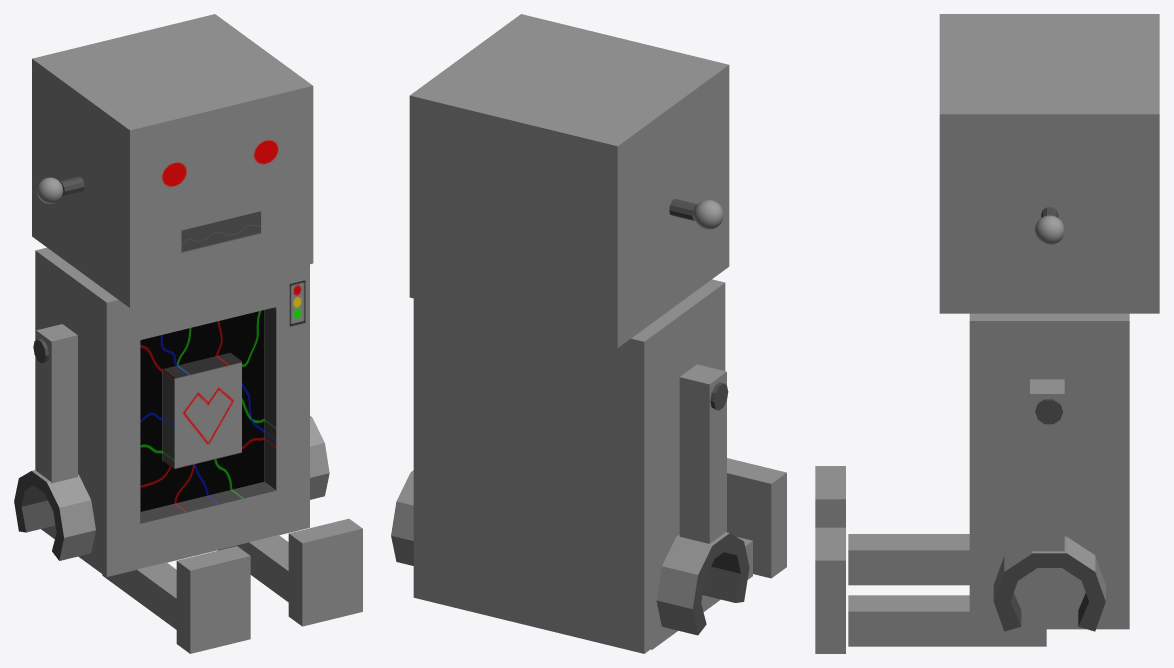
Rendered from robot.fbx.
The picture shows the model from 3 angles, left to right: view 1: azimuth 30°, elevation 25°; view 2: azimuth 150°, elevation 25°; view 3: azimuth 270°, elevation 25°; orthographic projection. The views are drawn at different scales.
Visible parts, largest first — view 1: robot; view 2: robot; view 3: robot.
Boxes of the visible parts, box(x1,y1,x2,y2) form: robot: box(14, 14, 362, 653); robot: box(391, 14, 786, 653); robot: box(815, 14, 1159, 653).
Bounding box in the file's own units: 0.6993 × 1.21 × 0.6955.
